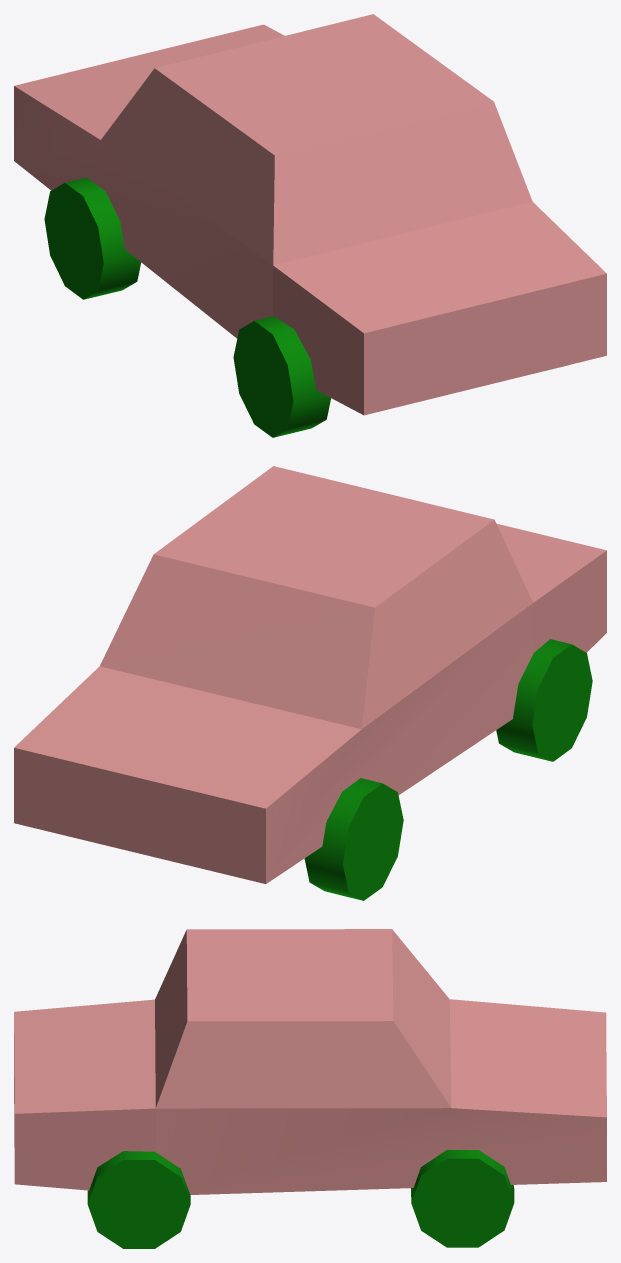
File: car.dae
3 views of the same model, one above another, from view 1: azimuth 30°, elevation 25°; view 2: azimuth 150°, elevation 25°; view 3: azimuth 270°, elevation 25° (orthographic). The views are drawn at different scales.
Visible parts, largest first — view 1: Chassis, WheelBL, WheelFL_PIVOT; view 2: Chassis, WheelFL_PIVOT, WheelBL; view 3: Chassis, WheelFR_PIVOT, WheelBR.
Boxes of the visible parts, <box> form: Chassis: <box>14,14,606,415</box>; WheelBL: <box>233,316,330,437</box>; WheelFL_PIVOT: <box>44,177,140,299</box>; Chassis: <box>14,466,606,883</box>; WheelFL_PIVOT: <box>304,778,403,900</box>; WheelBL: <box>496,639,592,761</box>; Chassis: <box>14,929,606,1194</box>; WheelFR_PIVOT: <box>411,1150,514,1247</box>; WheelBR: <box>87,1151,190,1248</box>.
Size of the model in its own units: 46.12 by 91.99 by 36.08.
